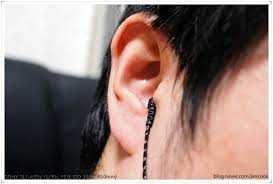earphone: (107, 12, 164, 157)
